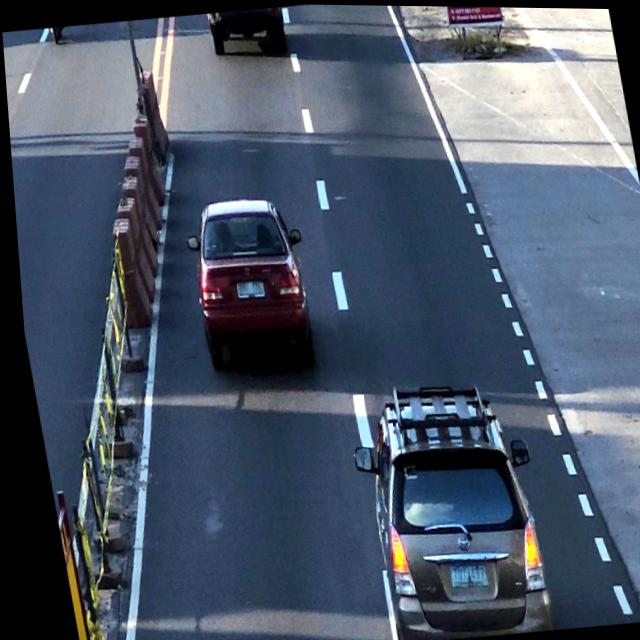Car: (346, 379, 552, 640), (181, 190, 314, 382), (207, 5, 288, 62)
License-Plate: (438, 561, 485, 592), (228, 276, 262, 303)
